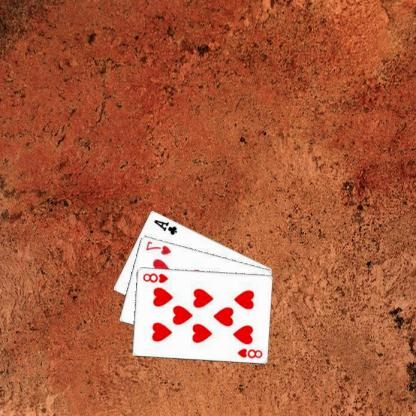7H: (144, 239, 174, 256)
8H: (142, 270, 171, 284), (236, 345, 265, 359)
AC: (153, 217, 180, 236)
